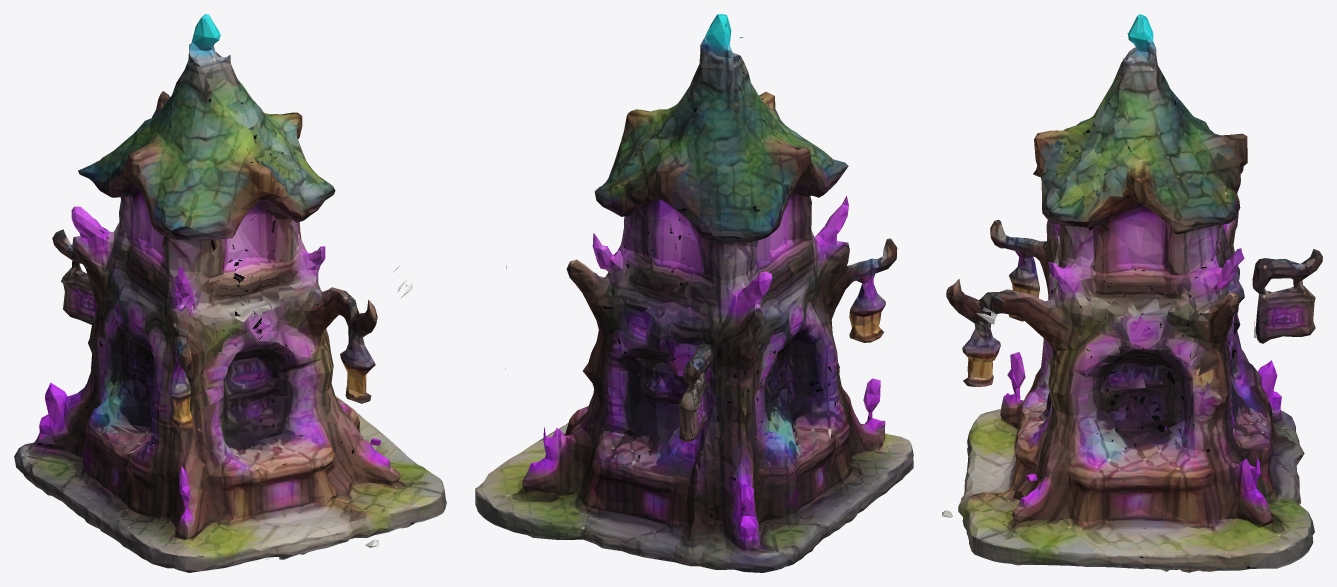
File: shop_magic_1.glb
3 renders of one model, left to right at view 1: azimuth 30°, elevation 25°; view 2: azimuth 150°, elevation 25°; view 3: azimuth 270°, elevation 25°, orthographic. The views are drawn at different scales.
Parts seen in each view (by area): view 1: zzzz19; view 2: zzzz19; view 3: zzzz19.
Part boxes in pixels (x1=…): zzzz19: x1=14, y1=14, x2=446, y2=572; zzzz19: x1=475, y1=14, x2=913, y2=572; zzzz19: x1=942, y1=14, x2=1322, y2=572.
Bounding box in the file's own units: 3.5 × 5.22 × 3.8.
Materials: 1 (1 with a texture image).
